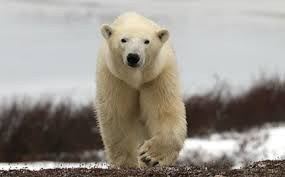PolarBear: (84, 8, 193, 172)
